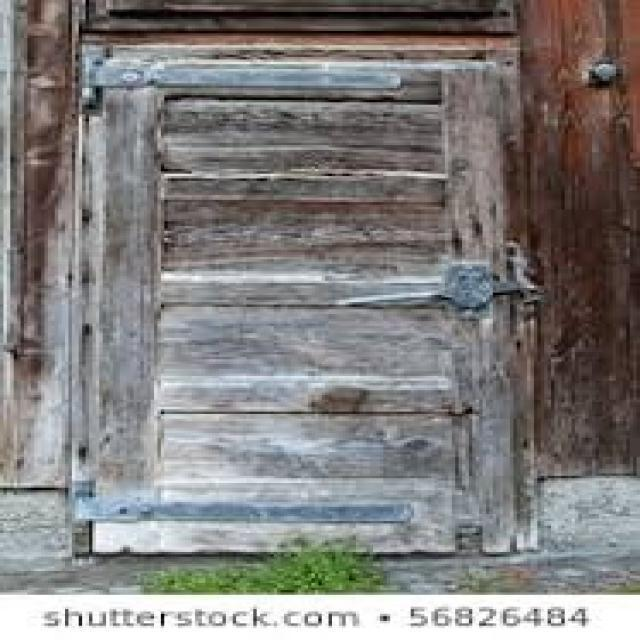door: (81, 43, 540, 560)
